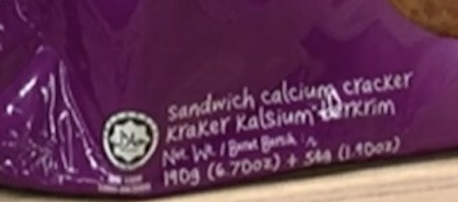halal: (107, 123, 151, 154)
